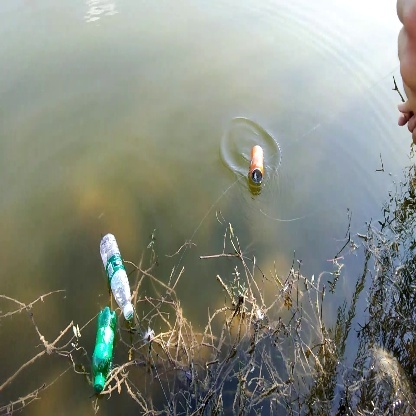bottle: (97, 233, 138, 320), (89, 306, 123, 394), (247, 142, 267, 189)
